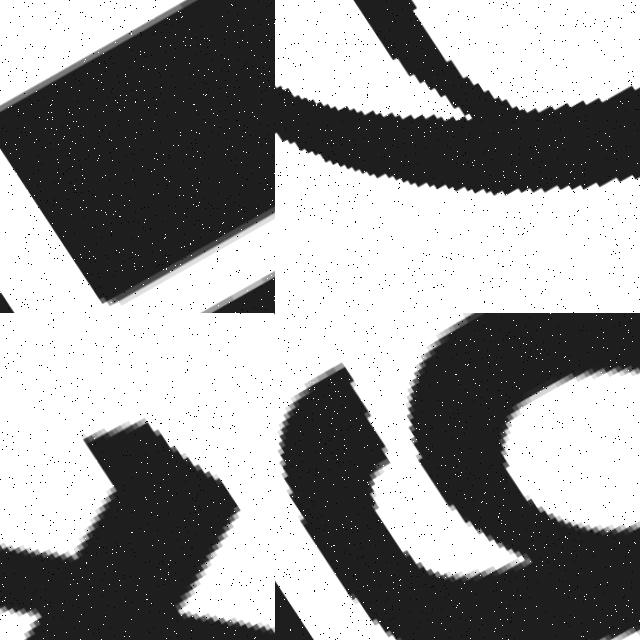9: (275, 0, 640, 313)
G: (275, 313, 640, 640)
N: (0, 0, 275, 313)
X: (0, 313, 275, 640)
